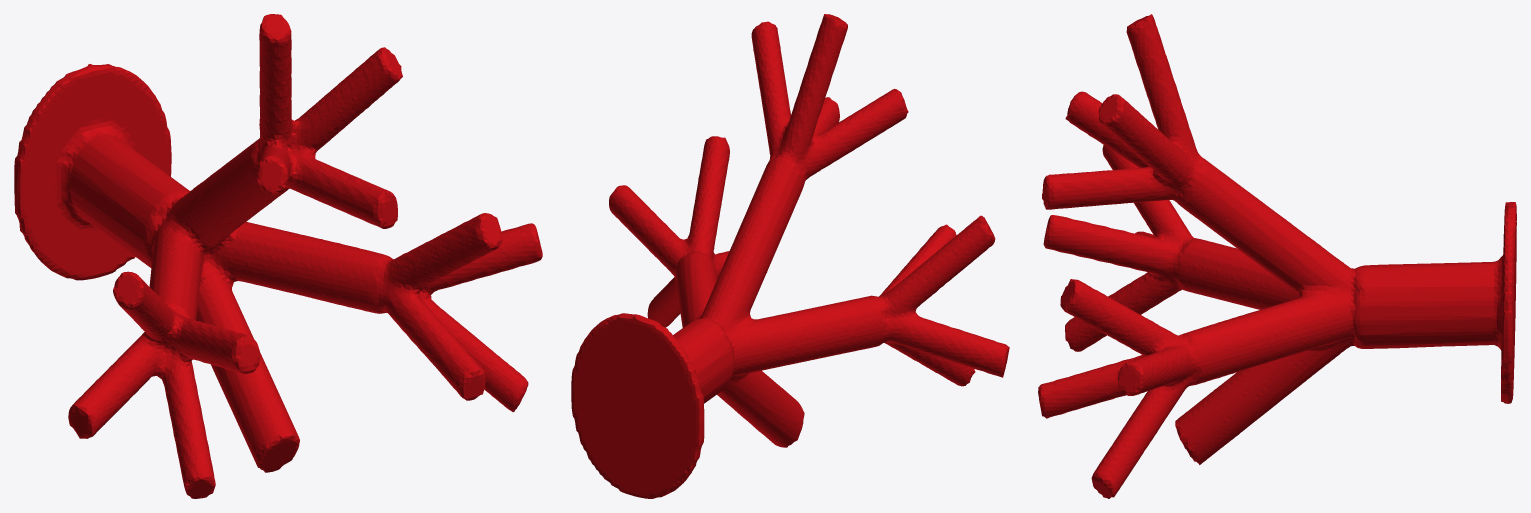
File: AsymTest.obj
3 views of the same model, side by side, from view 1: azimuth 30°, elevation 25°; view 2: azimuth 150°, elevation 25°; view 3: azimuth 270°, elevation 25° (orthographic). The views are drawn at different scales.
Visible parts, largest first — view 1: AsymFractal.009; view 2: AsymFractal.009; view 3: AsymFractal.009.
Boxes of the visible parts, x1,y1,x2,y2 form: AsymFractal.009: [14, 14, 542, 498]; AsymFractal.009: [571, 14, 1009, 498]; AsymFractal.009: [1038, 14, 1516, 498].
Size of the model in its own units: 0.1 by 0.1 by 0.1.
